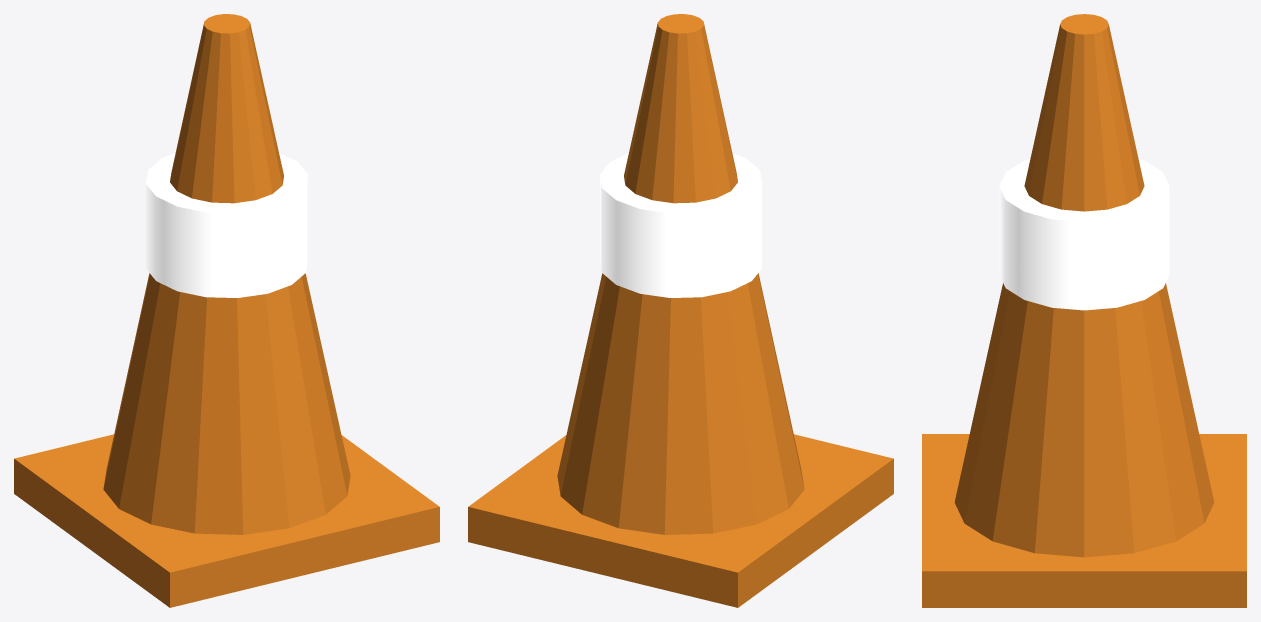
The picture shows the model from 3 angles, left to right: view 1: azimuth 30°, elevation 25°; view 2: azimuth 150°, elevation 25°; view 3: azimuth 270°, elevation 25°; orthographic projection. The views are drawn at different scales.
Visible parts, largest first — view 1: ConeMesh; view 2: ConeMesh; view 3: ConeMesh.
Part boxes in pixels (x1=…): ConeMesh: x1=14, y1=14, x2=439, y2=607; ConeMesh: x1=468, y1=14, x2=893, y2=607; ConeMesh: x1=922, y1=14, x2=1246, y2=607.
Bounding box in the file's own units: 0.4 × 0.7 × 0.4.
